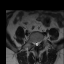CCS_severe_stenosis: (35, 40, 37, 47)
LFS_normal: (39, 38, 41, 44)
LLS_normal: (37, 40, 39, 46)
RFS_normal: (32, 40, 34, 45)
RLS_normal: (34, 40, 35, 46)
